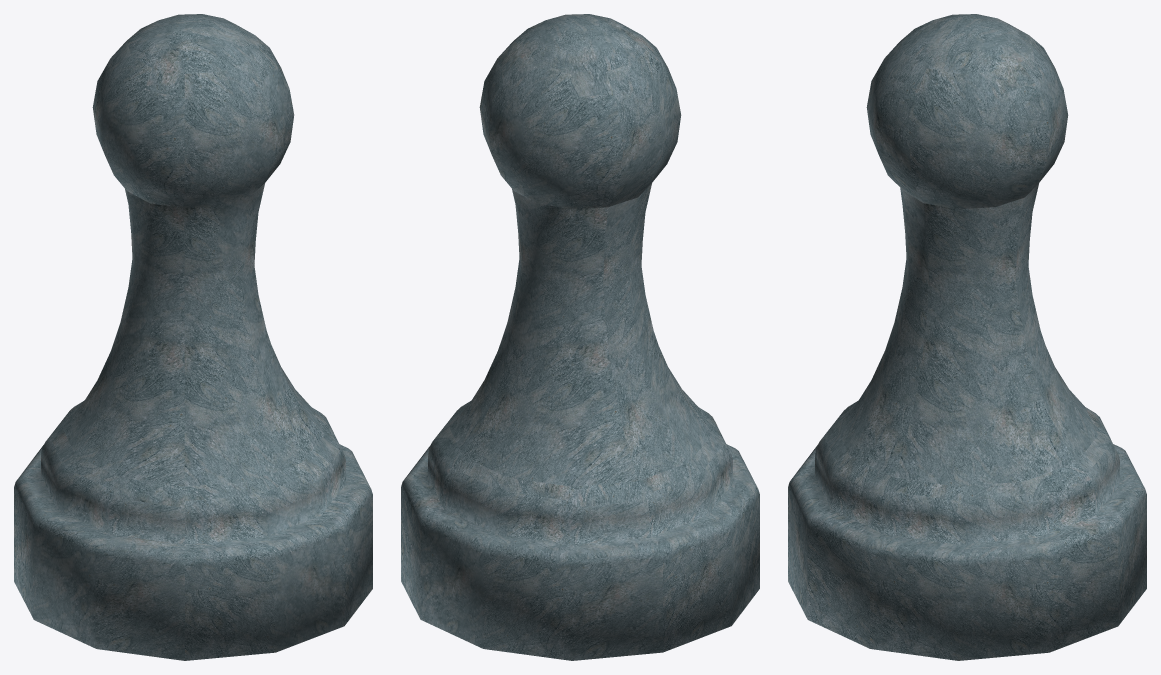
File: PeonBlanco.glb
3 renders of one model, left to right at view 1: azimuth 30°, elevation 25°; view 2: azimuth 150°, elevation 25°; view 3: azimuth 270°, elevation 25°, orthographic.
Parts seen in each view (by area): view 1: PeonB; view 2: PeonB; view 3: PeonB.
Boxes of the visible parts, x1,y1,x2,y2 form: PeonB: (14,14,372,660); PeonB: (401,14,759,660); PeonB: (788,14,1146,660).
Bounding box in the file's own units: 0.7033 × 1.22 × 0.7033.
1 material, 1 textured.
